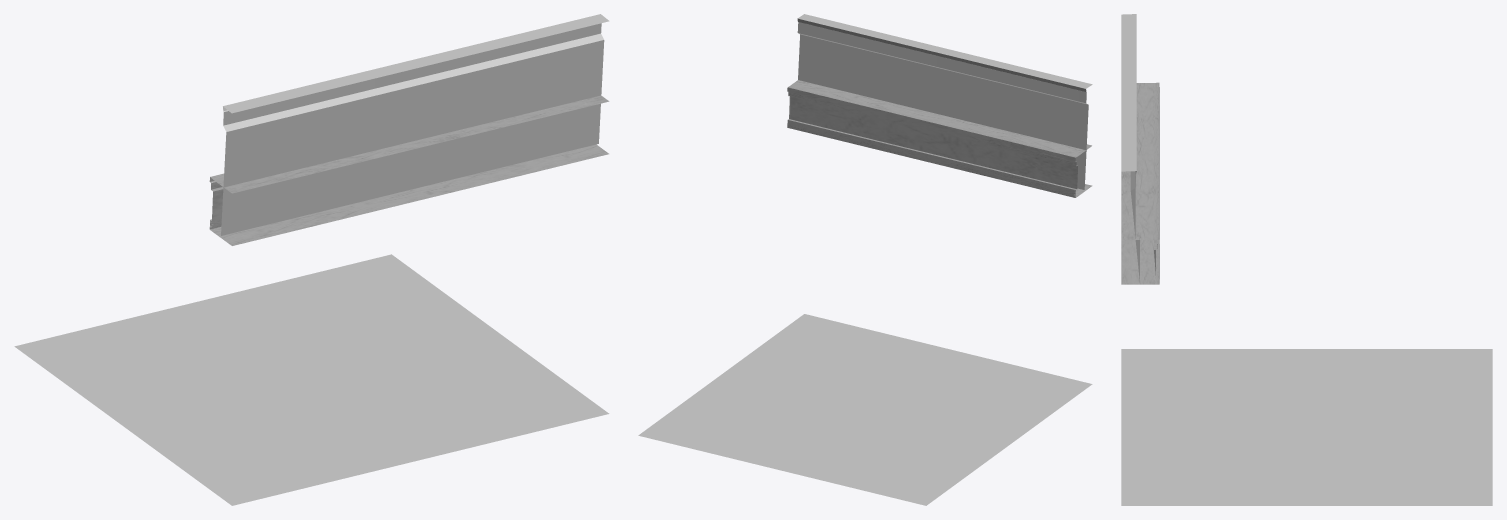
File: interiorRoom_MiddleJoiner.fbx
The picture shows the model from 3 angles, left to right: view 1: azimuth 30°, elevation 25°; view 2: azimuth 150°, elevation 25°; view 3: azimuth 270°, elevation 25°; orthographic projection. The views are drawn at different scales.
Visible parts, largest first — view 1: interiorRoom_MiddleJoiner; view 2: interiorRoom_MiddleJoiner; view 3: interiorRoom_MiddleJoiner.
Boxes of the visible parts, x1=… form: interiorRoom_MiddleJoiner: x1=14, y1=14, x2=609, y2=505; interiorRoom_MiddleJoiner: x1=638, y1=14, x2=1092, y2=505; interiorRoom_MiddleJoiner: x1=1121, y1=14, x2=1492, y2=505.
Size of the model in its own units: 3 by 2.99 by 3.
